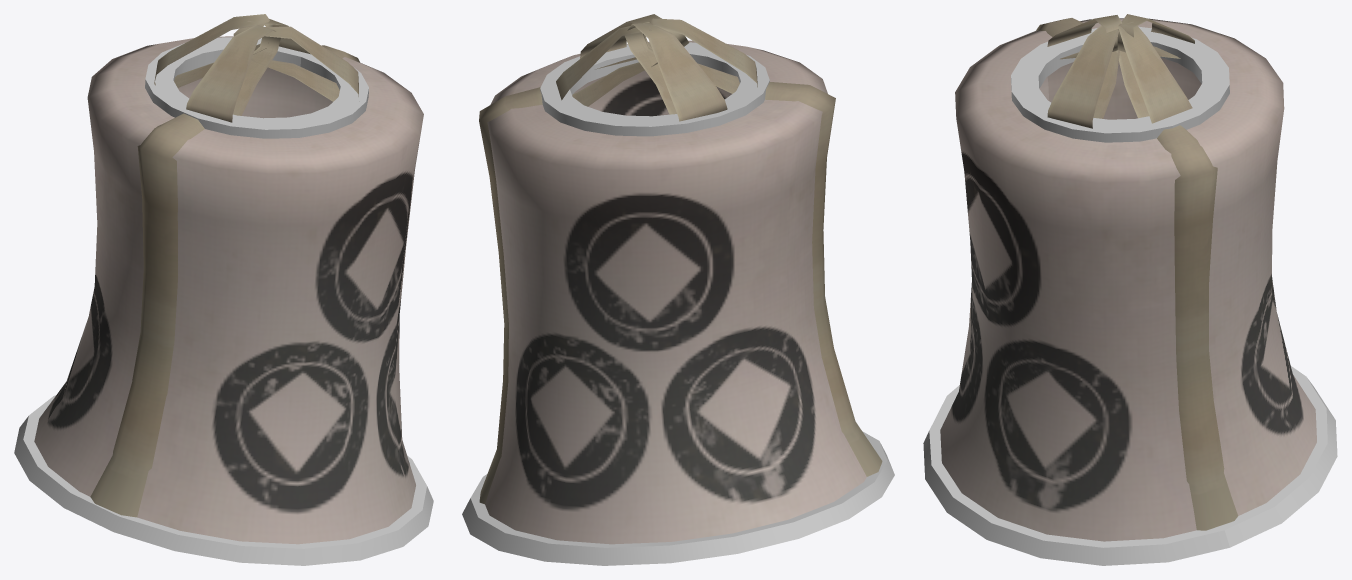
Rendered from SM_EastLands_WoodenLamp_Solo.fbx.
3 views of the same model, side by side, from view 1: azimuth 30°, elevation 25°; view 2: azimuth 150°, elevation 25°; view 3: azimuth 270°, elevation 25° (orthographic). The views are drawn at different scales.
Visible parts, largest first — view 1: SM_EastLands_WoodenLamp_Solo_LOD0; view 2: SM_EastLands_WoodenLamp_Solo_LOD0; view 3: SM_EastLands_WoodenLamp_Solo_LOD0.
Part boxes in pixels (left/top/right/bottom): SM_EastLands_WoodenLamp_Solo_LOD0: left=14, top=14, right=433, bottom=565; SM_EastLands_WoodenLamp_Solo_LOD0: left=462, top=14, right=894, bottom=565; SM_EastLands_WoodenLamp_Solo_LOD0: left=923, top=14, right=1337, bottom=565.
Size of the model in its own units: 43.77 by 55.77 by 44.27.
